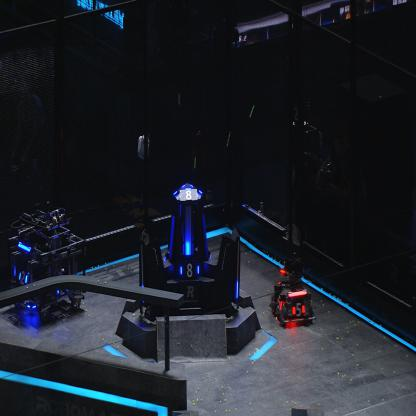car: (8, 206, 87, 323), (268, 253, 317, 326)
